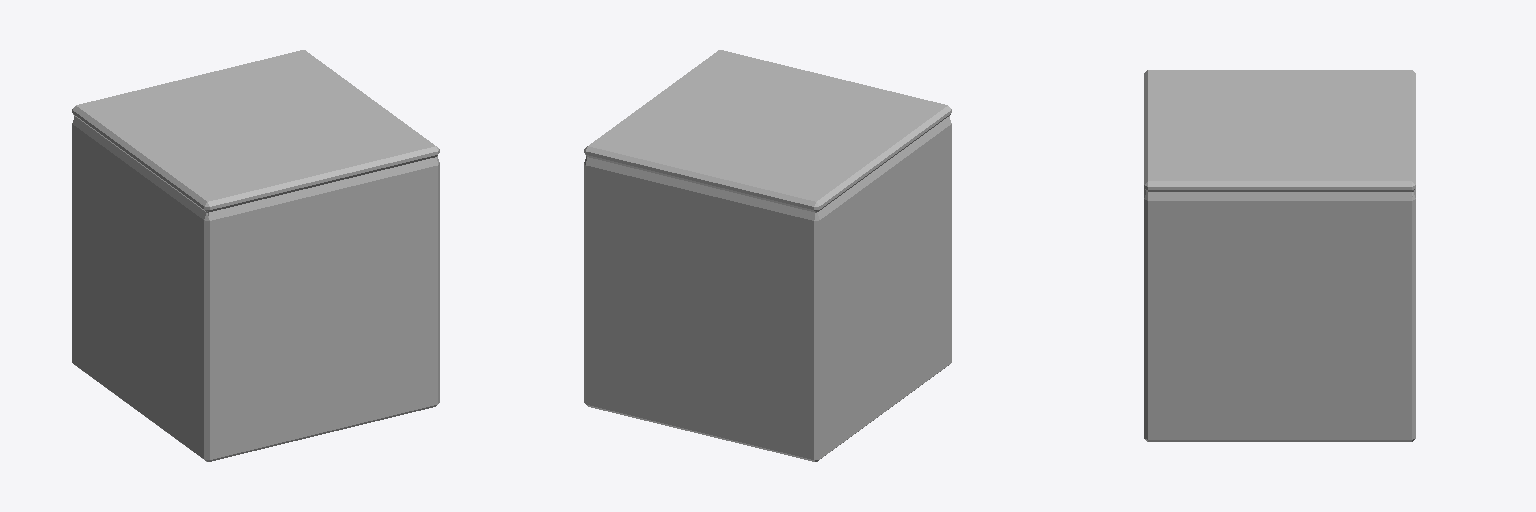
Rendered from cube_with_top2001.obj.
3 renders of one model, left to right at view 1: azimuth 30°, elevation 25°; view 2: azimuth 150°, elevation 25°; view 3: azimuth 270°, elevation 25°, orthographic.
Parts seen in each view (by area): view 1: Group; view 2: Group; view 3: Group.
Part boxes in pixels (x1,y1,x2,y2): Group: (72, 50, 439, 461); Group: (584, 50, 951, 461); Group: (1144, 70, 1415, 441).
Bounding box in the file's own units: 2 × 2.11 × 2.